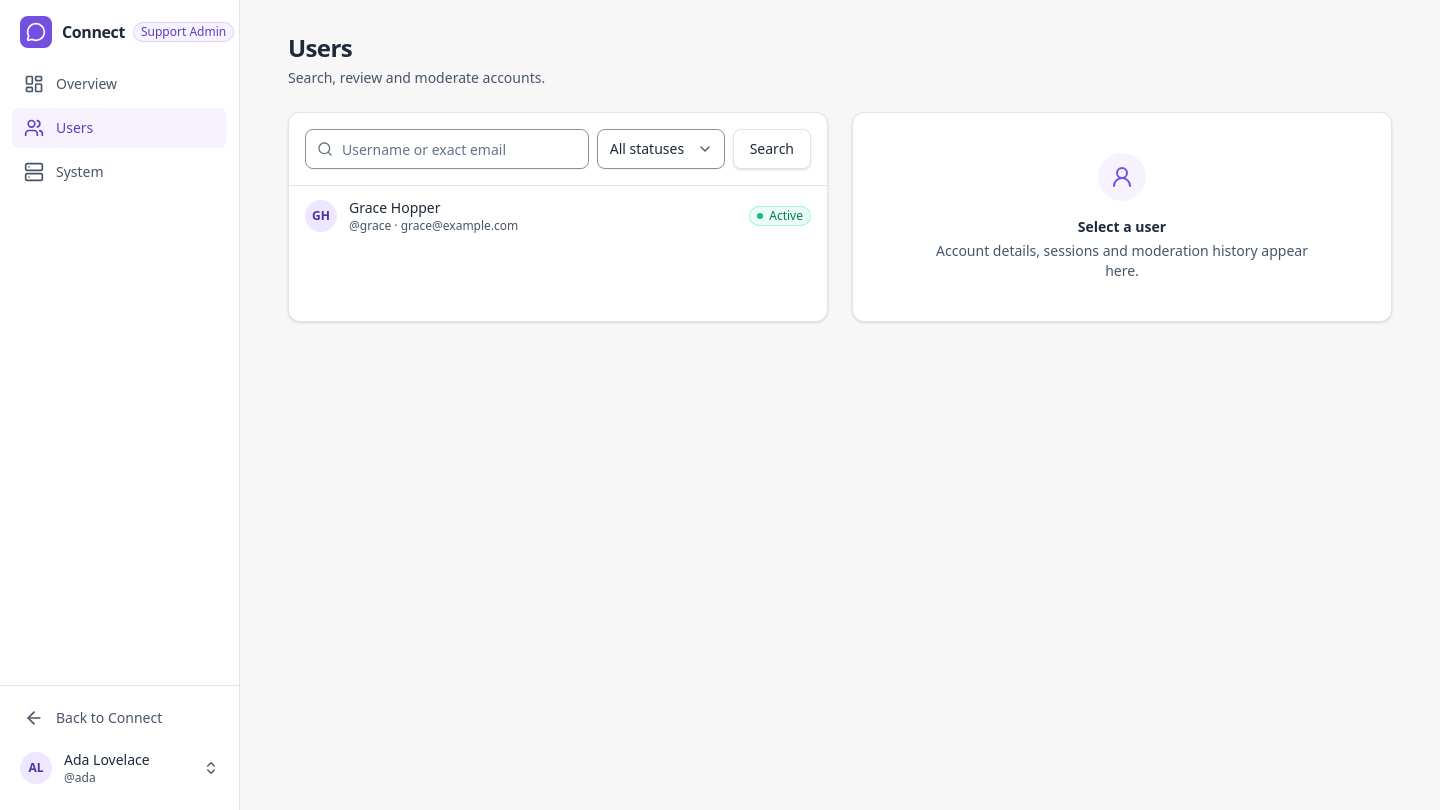
Test case: admin permissions in the UI › lets a Support Admin force a logout but not suspend or ban
The width and height of the screenshot is (1440, 810).
Click the button "GH Grace Hopper @grace · grace@example.com Active". click: (321, 216)
box: 289,186 -> 827,246
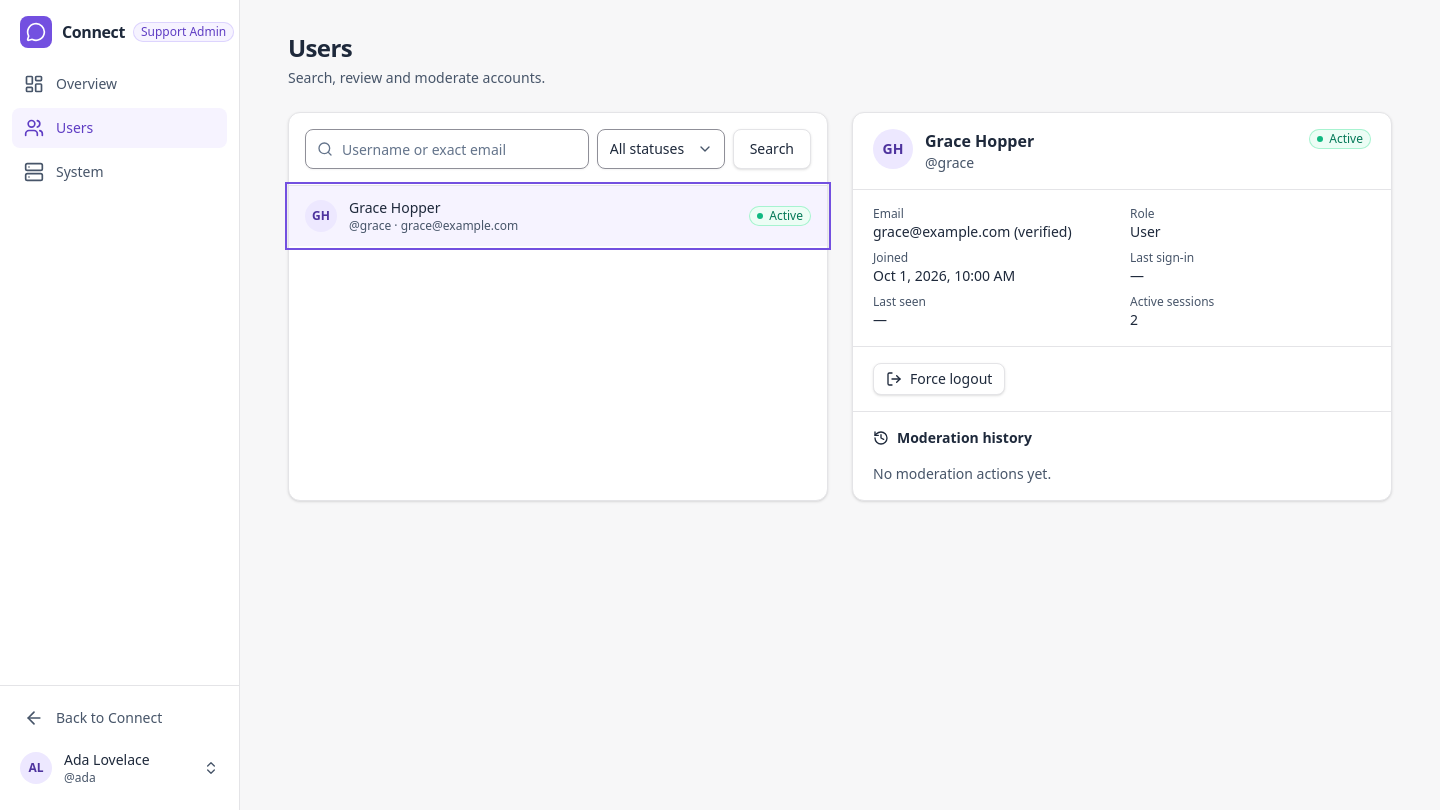
Expected: the heading "Grace Hopper" is shown, 925,130 -> 1034,152
Expected: the button "Force logout" is shown, 873,363 -> 1005,395
